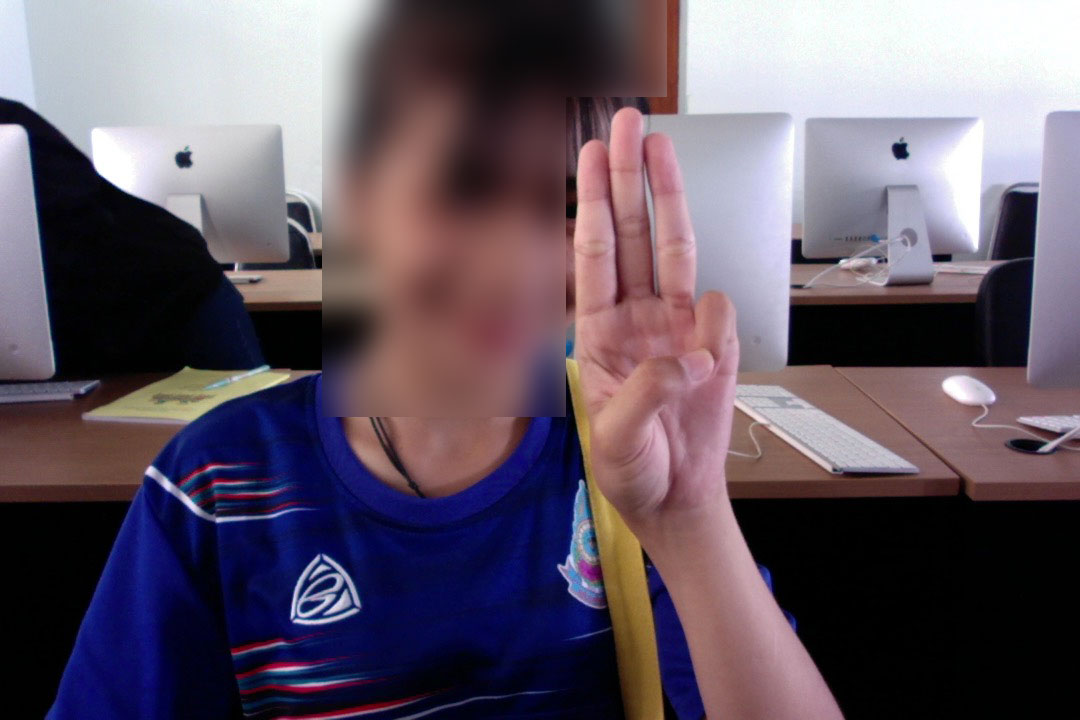wor: (555, 97, 769, 540)
